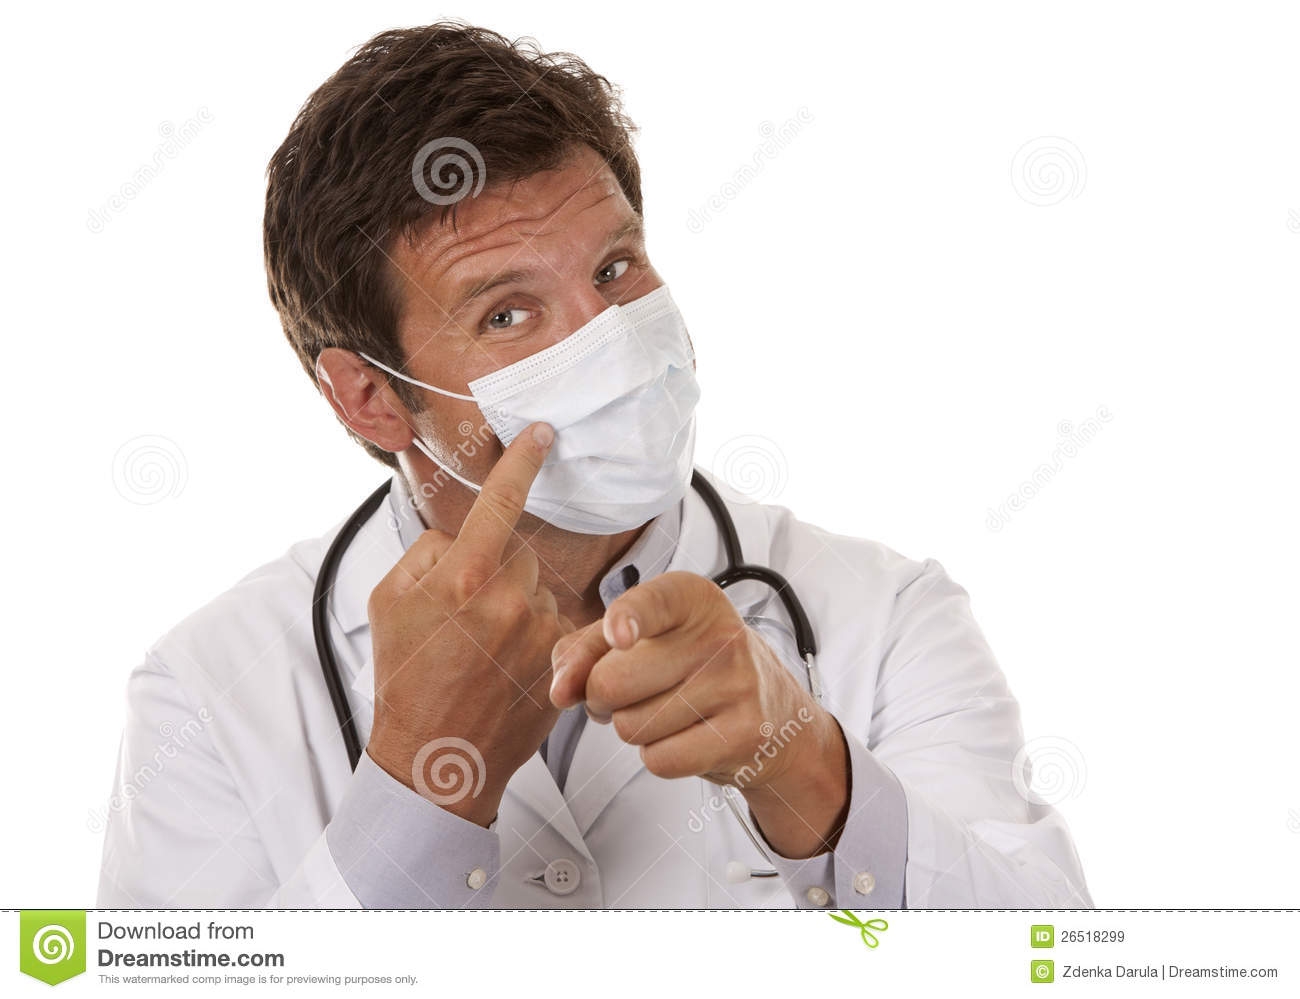mask: (467, 314, 739, 556)
